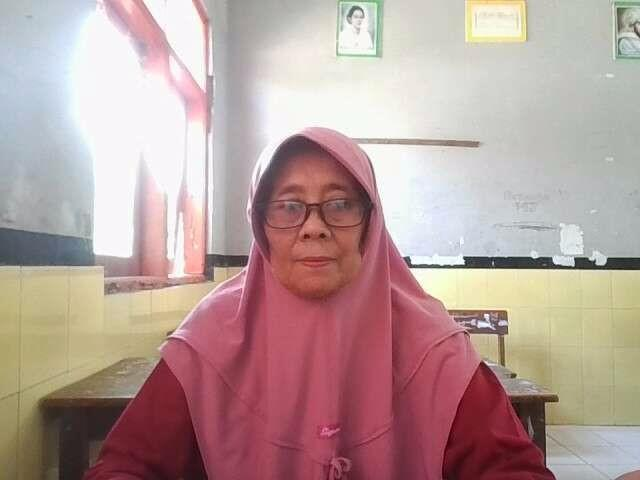good: (63, 107, 574, 480)
